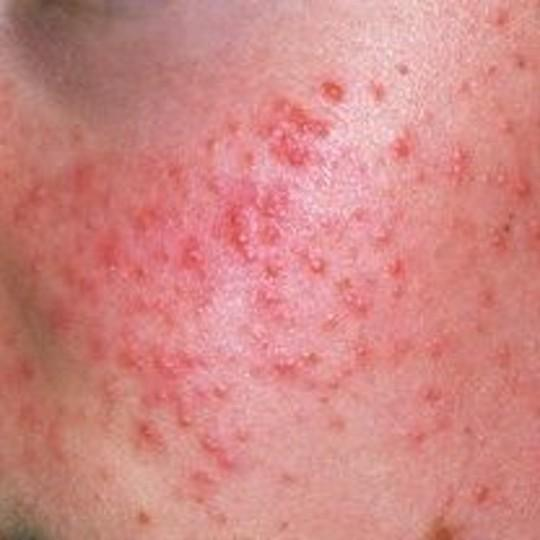acne_scars: (268, 136, 333, 172)
papular: (382, 253, 418, 291)
purulent: (227, 229, 261, 273), (323, 77, 360, 109), (517, 169, 540, 218), (299, 254, 333, 286), (93, 258, 118, 288)
whitehead: (482, 219, 514, 292), (264, 345, 336, 377), (434, 143, 481, 188), (342, 286, 378, 332), (483, 167, 509, 205), (207, 135, 236, 169), (200, 431, 223, 471), (460, 432, 496, 456), (176, 411, 202, 440)
